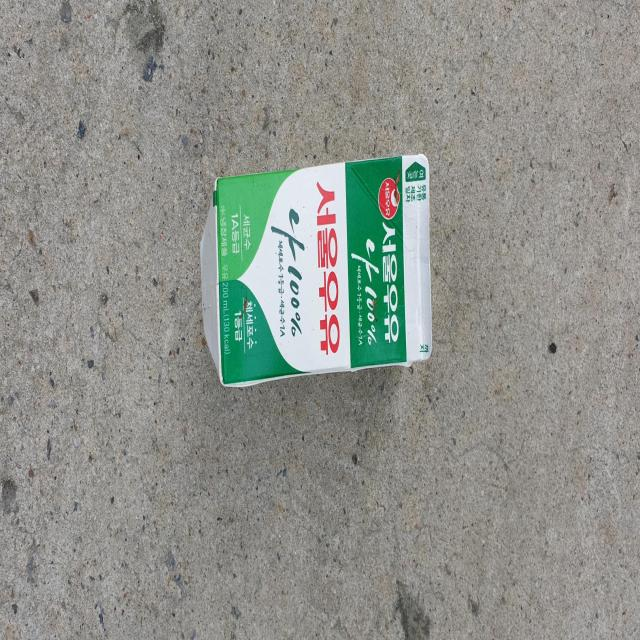paperpack: (200, 153, 433, 385)
